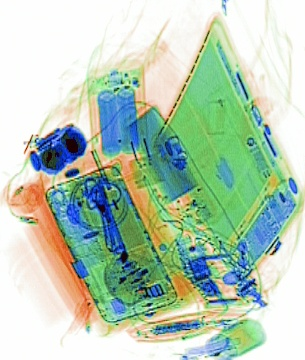powerbank: (84, 65, 149, 159)
